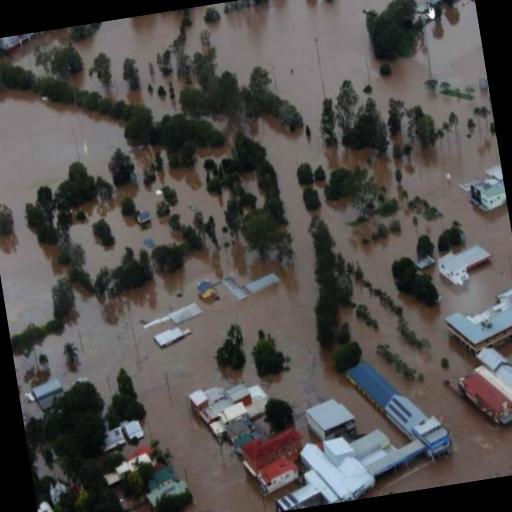flood: (211, 0, 512, 497), (140, 129, 411, 512), (13, 160, 283, 403), (0, 91, 125, 331), (77, 10, 178, 116), (427, 0, 487, 84), (6, 27, 67, 72), (187, 5, 207, 52), (243, 172, 264, 206)
house: (441, 284, 512, 361), (238, 424, 308, 500), (196, 381, 272, 434), (462, 355, 512, 431), (346, 356, 411, 410), (300, 392, 360, 446), (436, 240, 496, 290), (268, 474, 328, 512), (466, 168, 508, 214), (28, 370, 68, 416), (196, 278, 217, 299), (136, 210, 152, 226)
